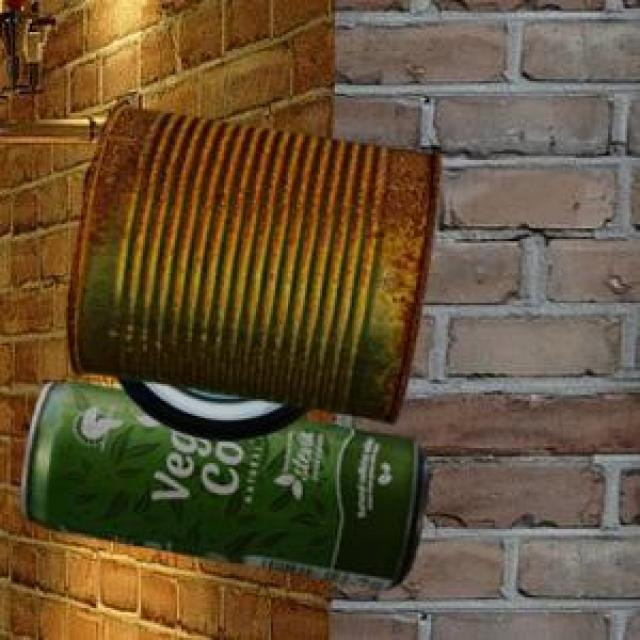Can: (65, 101, 438, 421), (18, 379, 426, 586), (114, 374, 310, 438)
